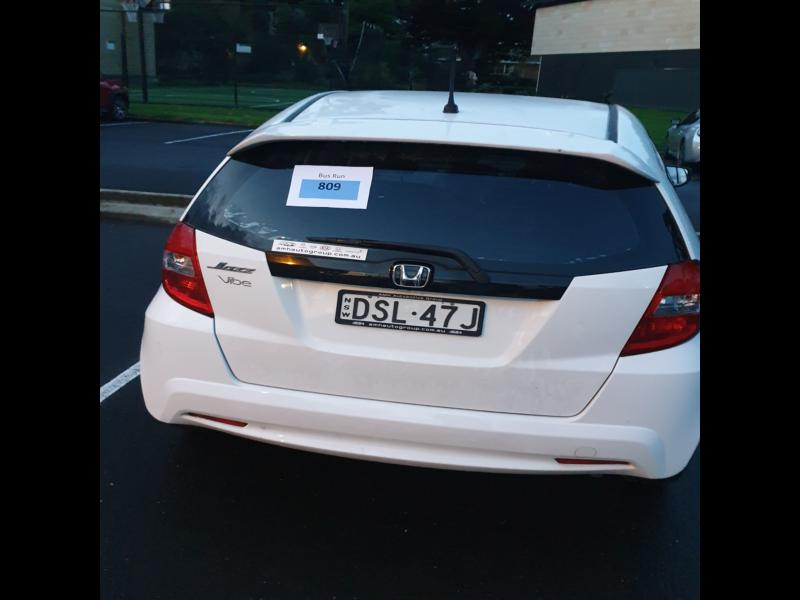BusRun: (300, 178, 360, 200)
PlateNo: (337, 293, 480, 334)
